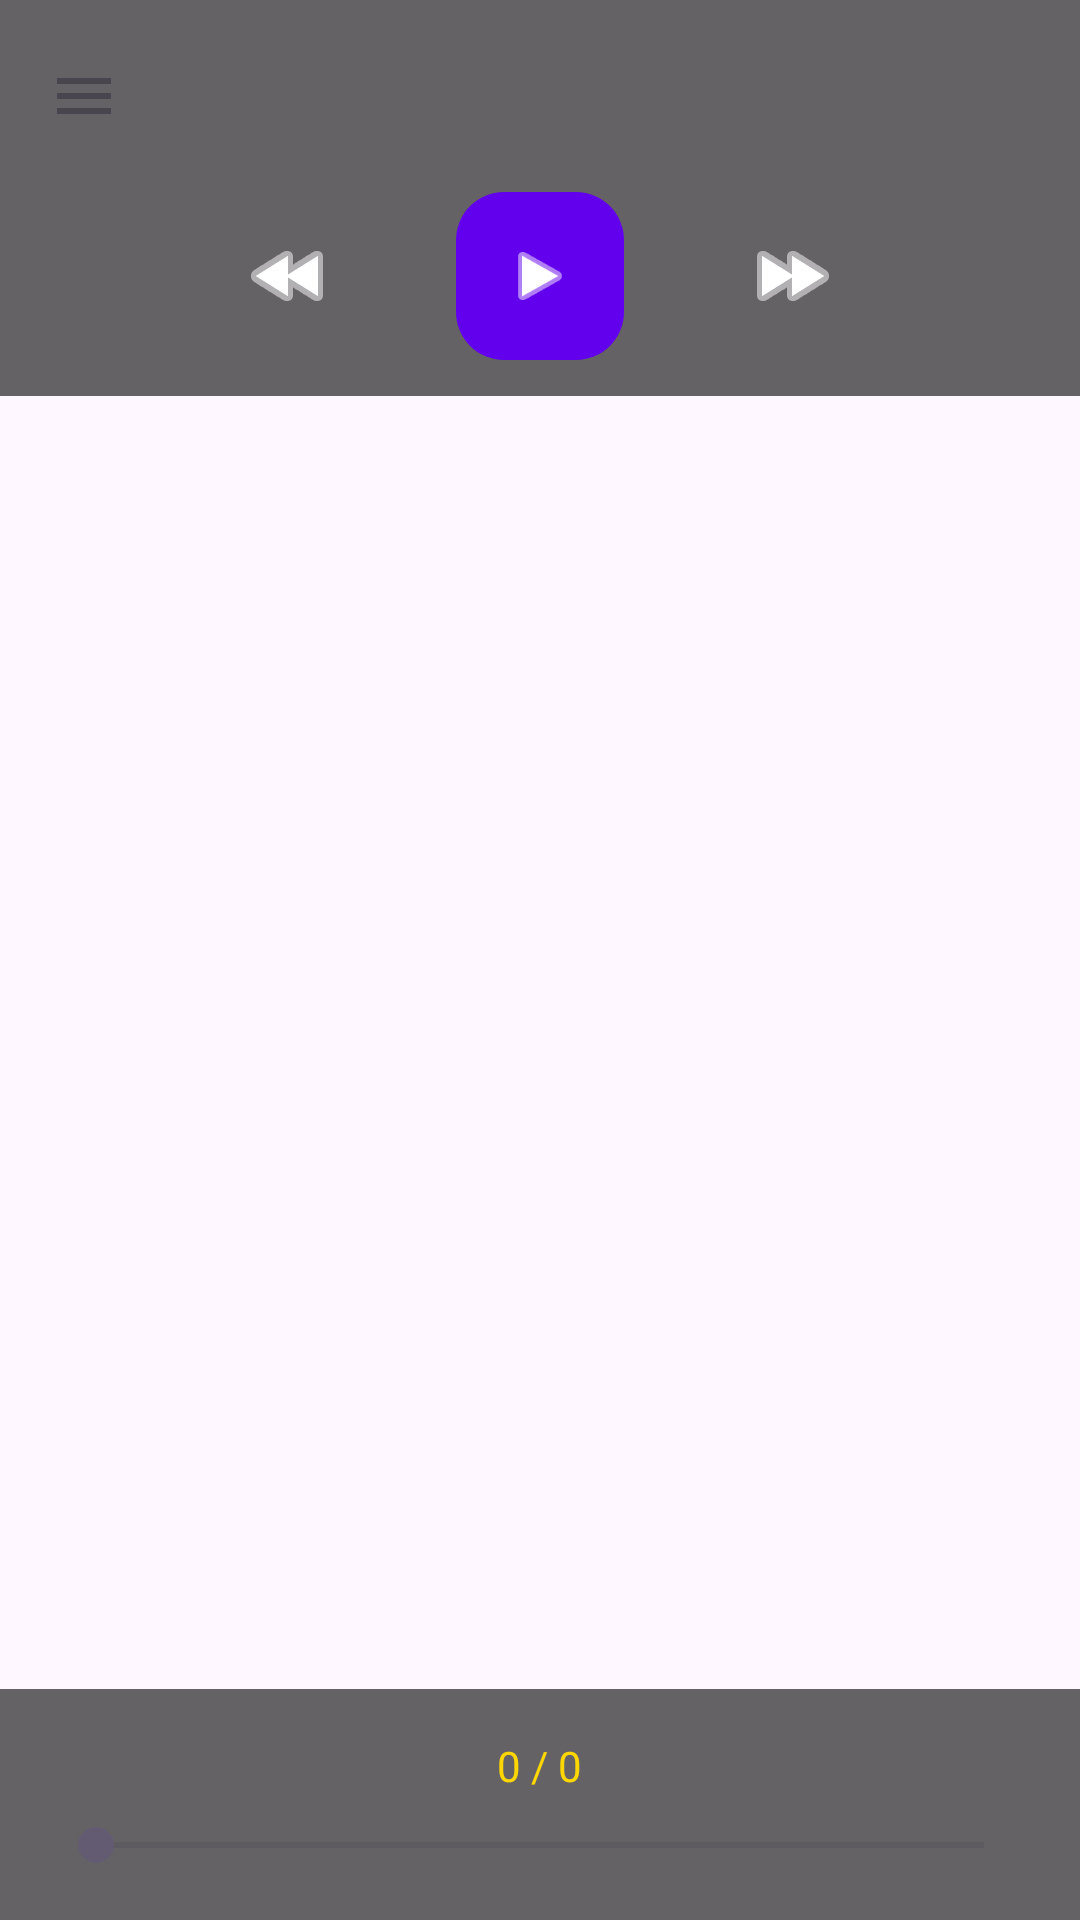

Point at icon controls on the screen. Image size 1080x1920, points as (x,y).
Leggi: (540,276)
Precedente: (287,276)
Successivo: (793,276)
